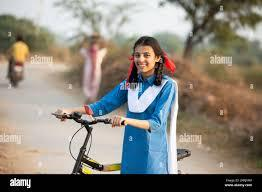Human: (103, 33, 193, 192)
